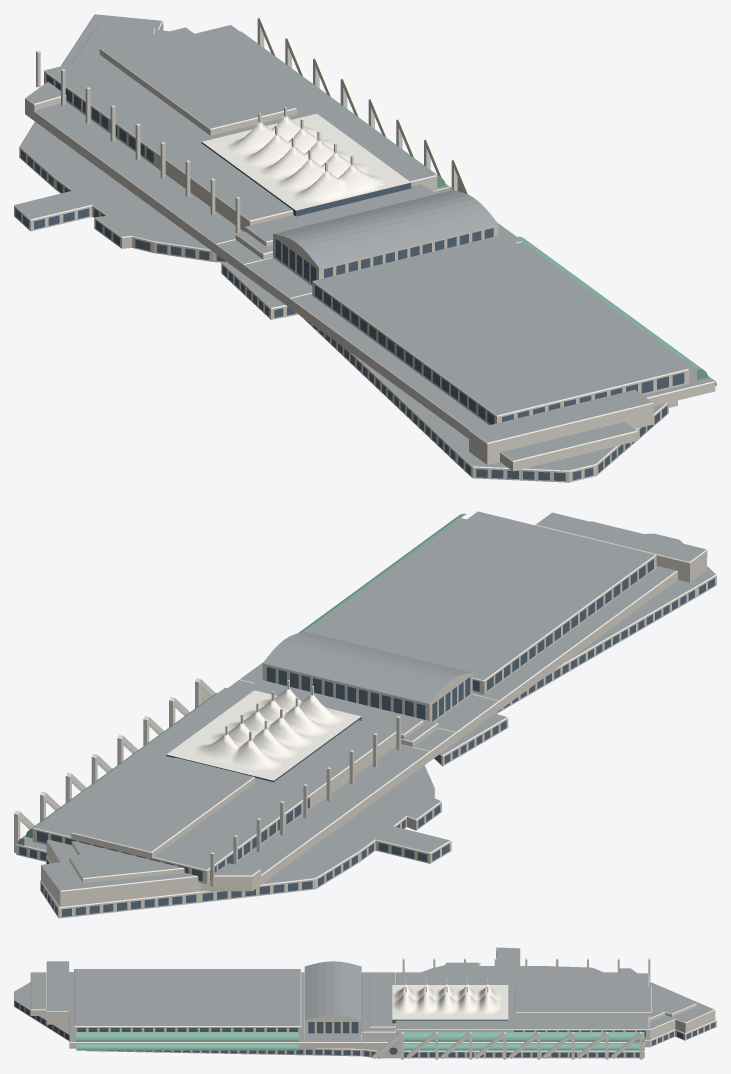
Rendered from sd-convention-center.glb.
3 renders of one model, top to bottom at view 1: azimuth 30°, elevation 25°; view 2: azimuth 150°, elevation 25°; view 3: azimuth 270°, elevation 25°, orthographic. The views are drawn at different scales.
Parts seen in each view (by area): view 1: San Diego Convention Center; view 2: San Diego Convention Center; view 3: San Diego Convention Center.
Part boxes in pixels (x1=…): San Diego Convention Center: x1=14, y1=14, x2=716, y2=482; San Diego Convention Center: x1=14, y1=511, x2=716, y2=918; San Diego Convention Center: x1=14, y1=947, x2=716, y2=1059.
Size of the model in its own units: 219 by 41 by 618.
